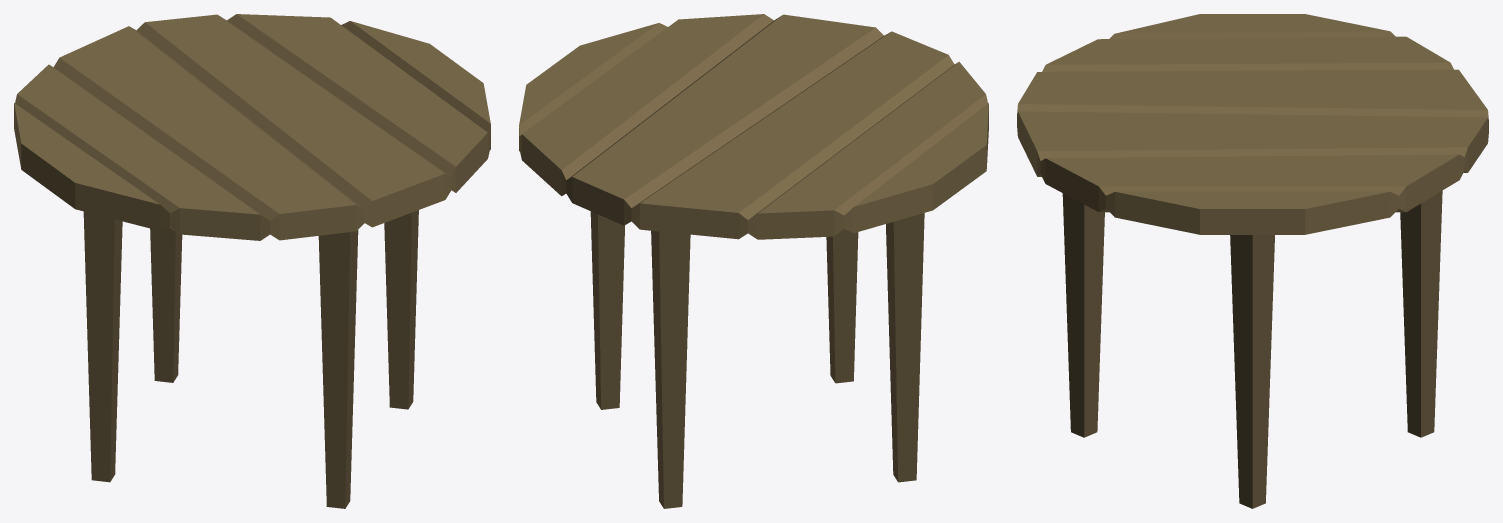
File: Table_4.fbx
The picture shows the model from 3 angles, left to right: view 1: azimuth 30°, elevation 25°; view 2: azimuth 150°, elevation 25°; view 3: azimuth 270°, elevation 25°; orthographic projection. The views are drawn at different scales.
Visible parts, largest first — view 1: Table_4; view 2: Table_4; view 3: Table_4.
Part boxes in pixels (bbox=[...]): Table_4: bbox=[14, 14, 490, 508]; Table_4: bbox=[519, 14, 988, 508]; Table_4: bbox=[1017, 14, 1488, 508].
Size of the model in its own units: 96.79 by 74.2 by 98.94.
